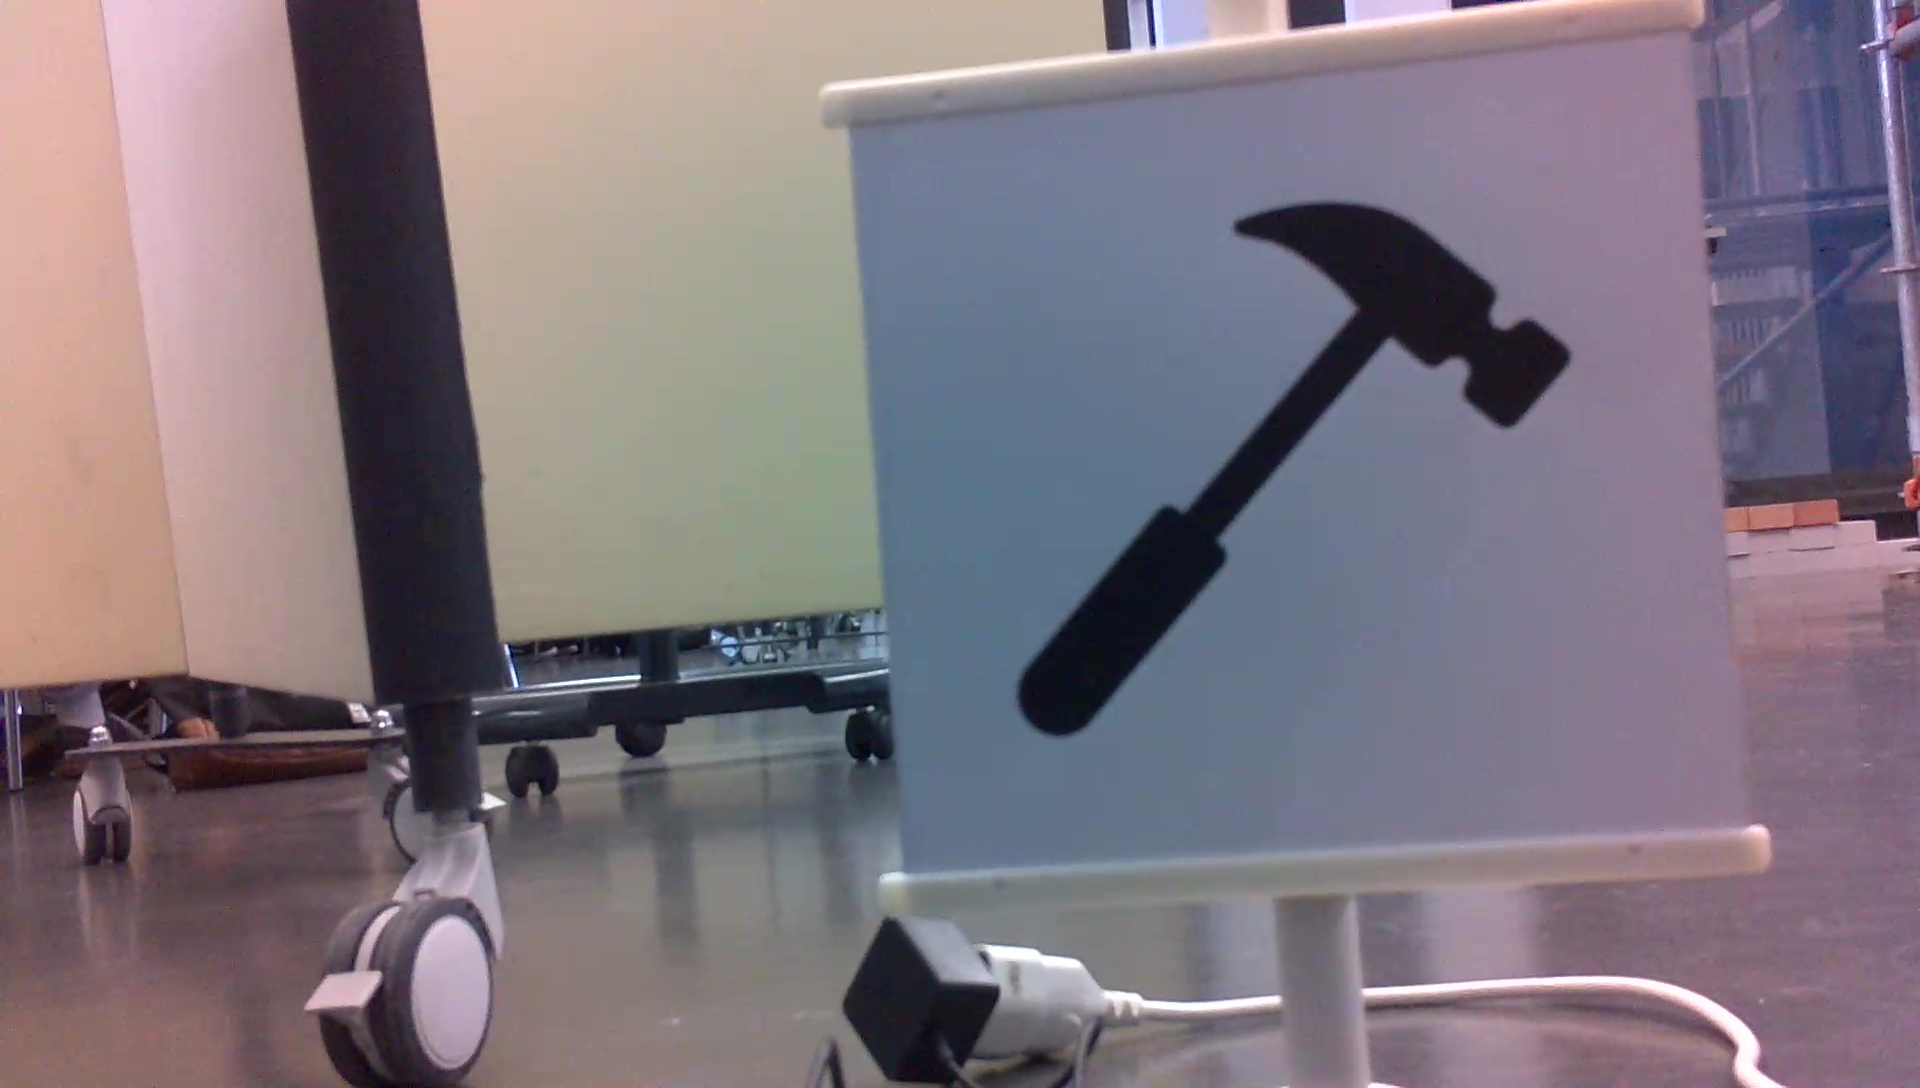hammer: (1005, 193, 1582, 750)
